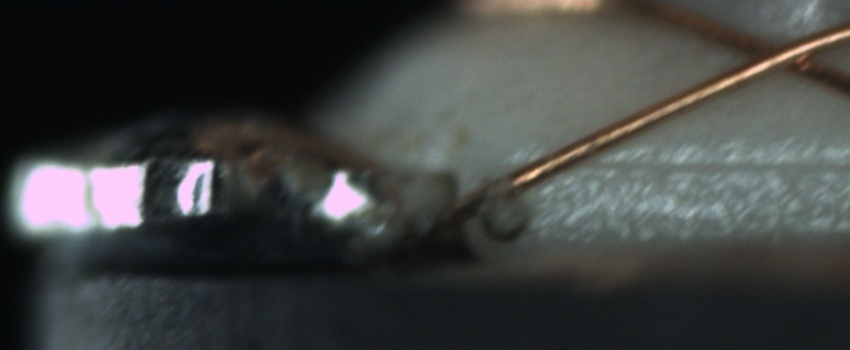CL: (721, 23, 832, 86)
DL: (555, 135, 841, 192)
